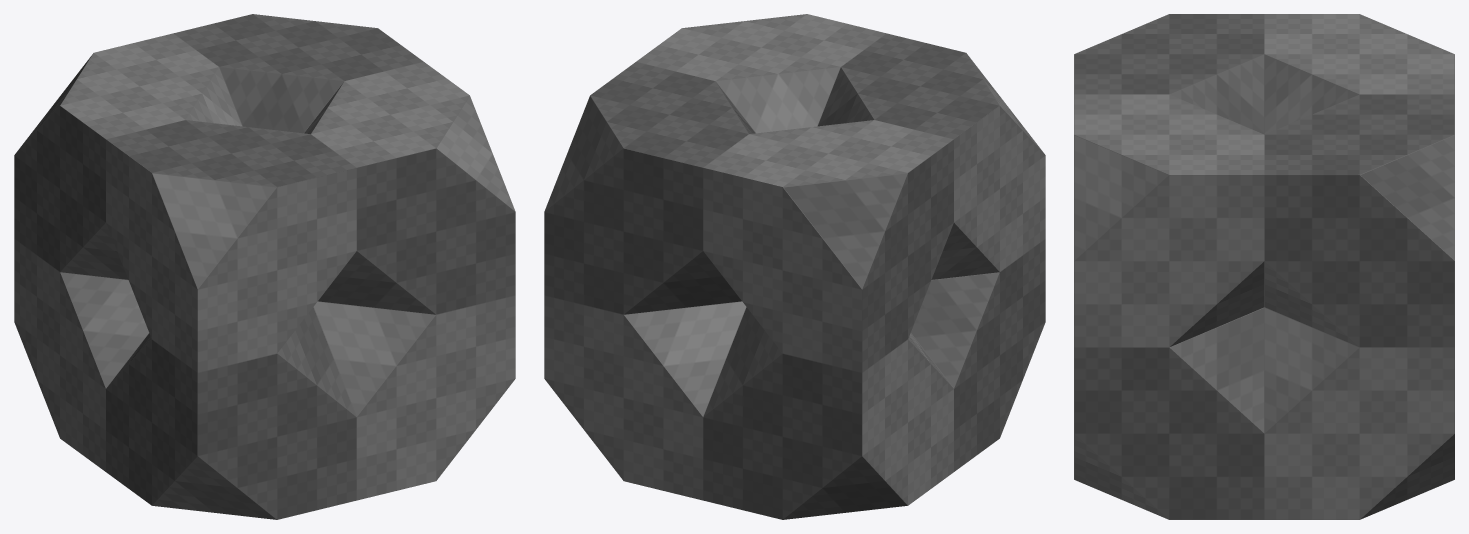
The model's file is tris.obj.
The picture shows the model from 3 angles, left to right: view 1: azimuth 30°, elevation 25°; view 2: azimuth 150°, elevation 25°; view 3: azimuth 270°, elevation 25°; orthographic projection. The views are drawn at different scales.
Visible parts, largest first — view 1: slot1; view 2: slot1; view 3: slot1.
Part boxes in pixels (x1,y1,x2,y2): slot1: (14, 14, 515, 519); slot1: (544, 14, 1045, 519); slot1: (1074, 14, 1454, 519).
Size of the model in its own units: 32 by 32 by 32.
